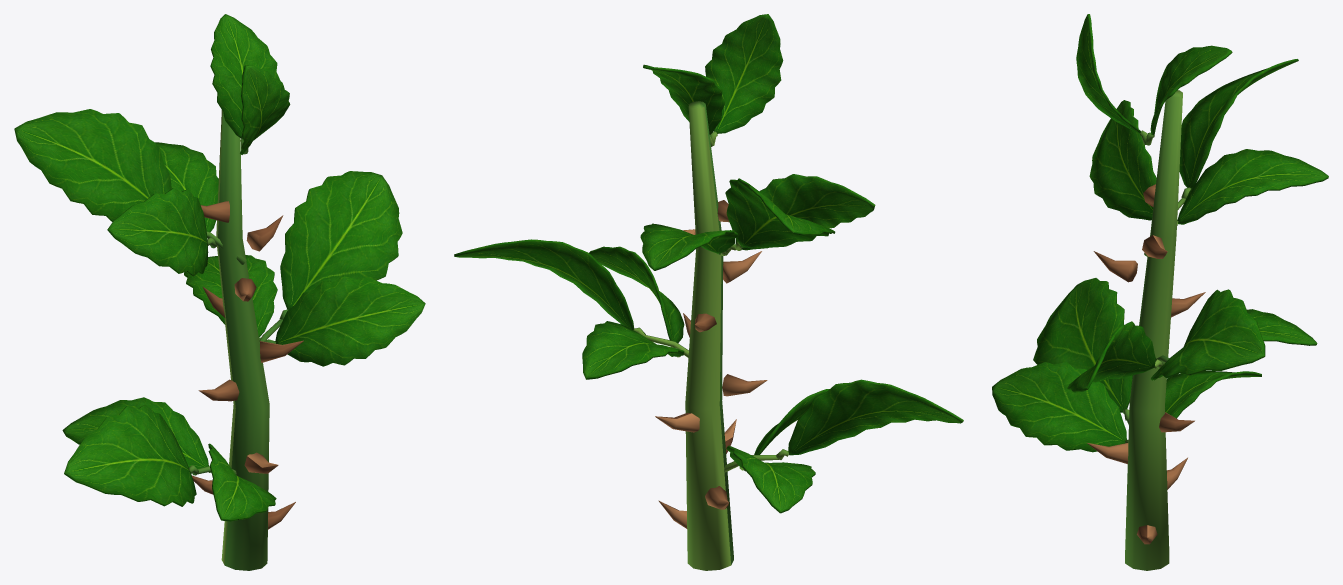
File: NP_Rose_Young.fbx
3 views of the same model, side by side, from view 1: azimuth 30°, elevation 25°; view 2: azimuth 150°, elevation 25°; view 3: azimuth 270°, elevation 25° (orthographic).
Parts seen in each view (by area): view 1: NP_Rose_Young; view 2: NP_Rose_Young; view 3: NP_Rose_Young.
Boxes of the visible parts, x1,y1,x2,y2 form: NP_Rose_Young: (14,14,425,570); NP_Rose_Young: (454,14,963,570); NP_Rose_Young: (992,14,1328,570).
Size of the model in its own units: 34.97 by 42.77 by 24.46.
